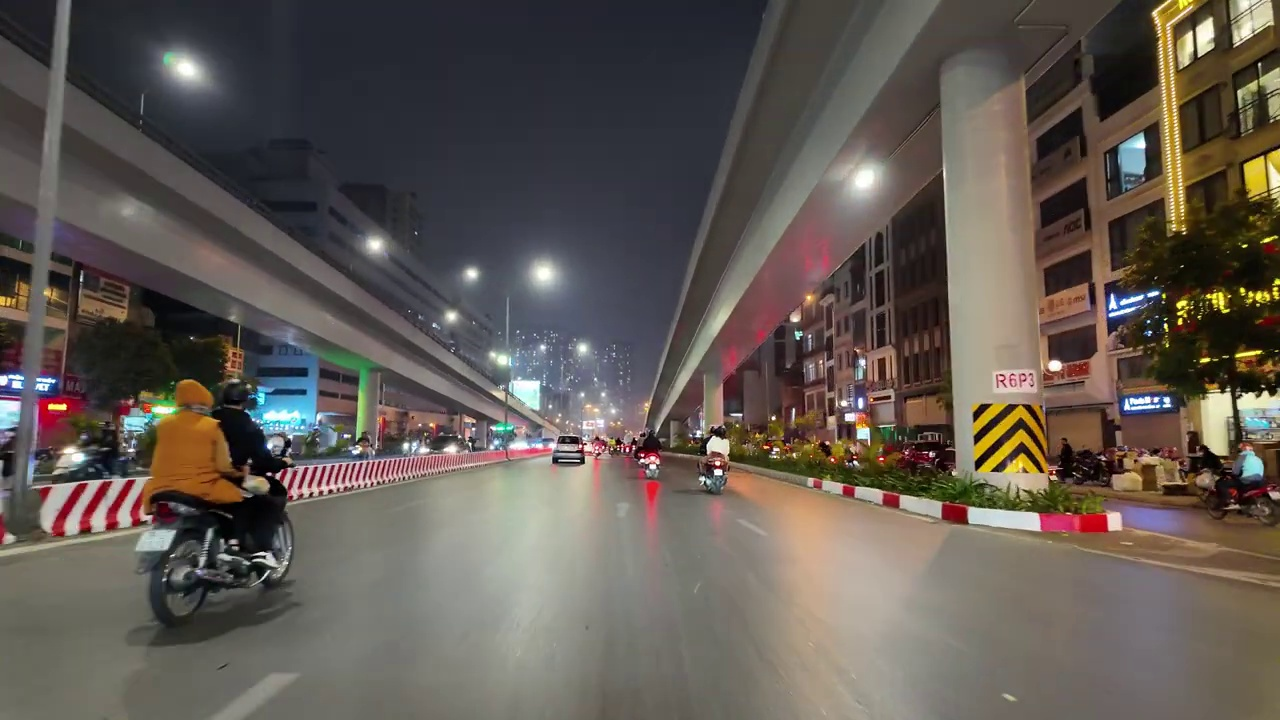acesa: (164, 53, 206, 88), (848, 164, 882, 195), (529, 259, 557, 287), (363, 233, 390, 258), (439, 306, 463, 328), (572, 338, 594, 361), (460, 265, 483, 286)
